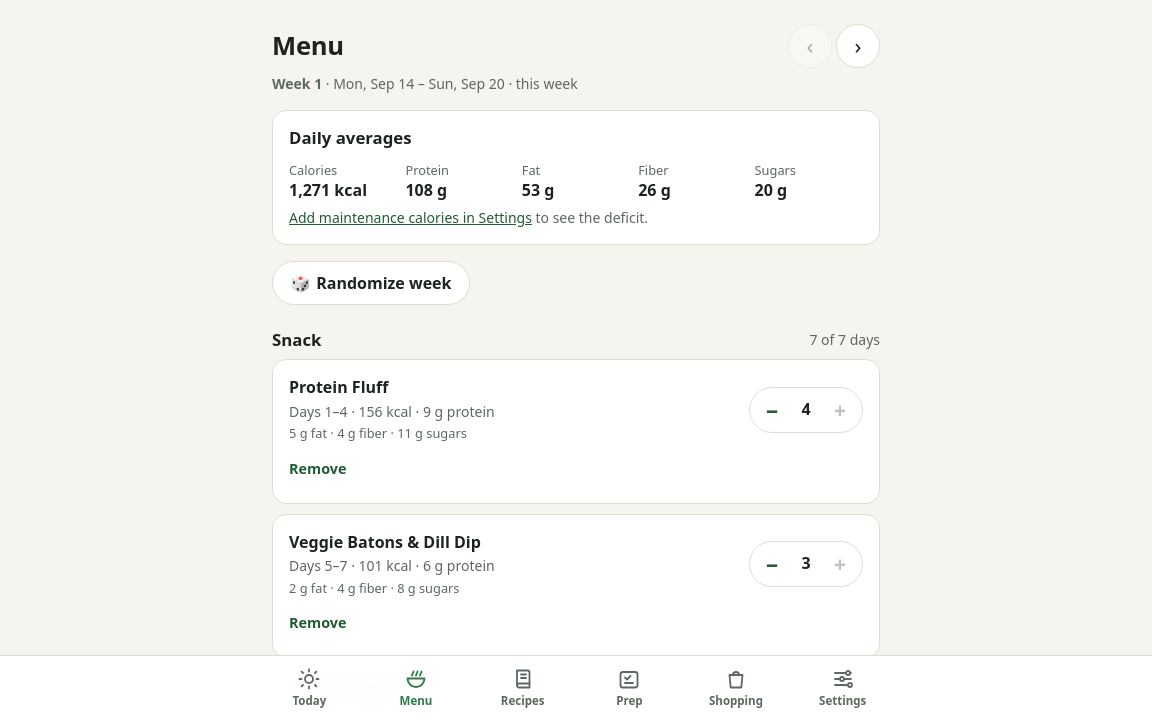
it: review fixes › says randomizing also changes later weeks that follow this menu
The image size is (1152, 720).
Click the button "🎲Randomize week".
click(371, 283)  # box [272,261,470,305]
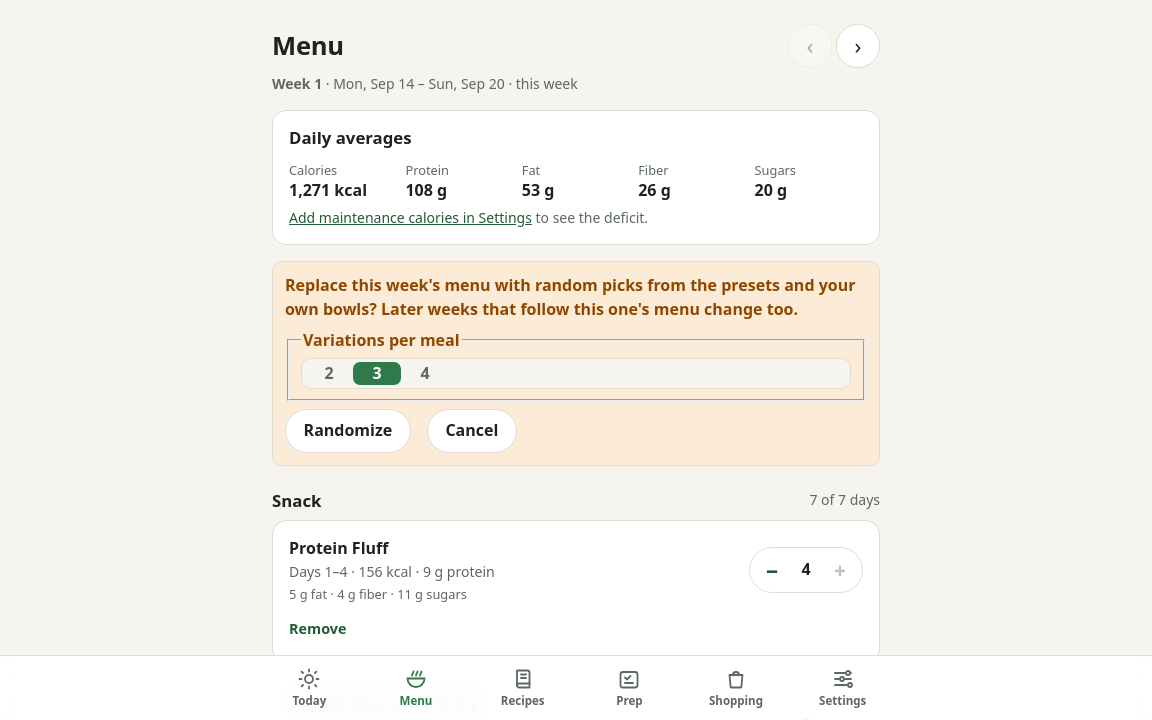
Expected: the text "Later weeks that follow this" is shown, [285,274,856,320]
